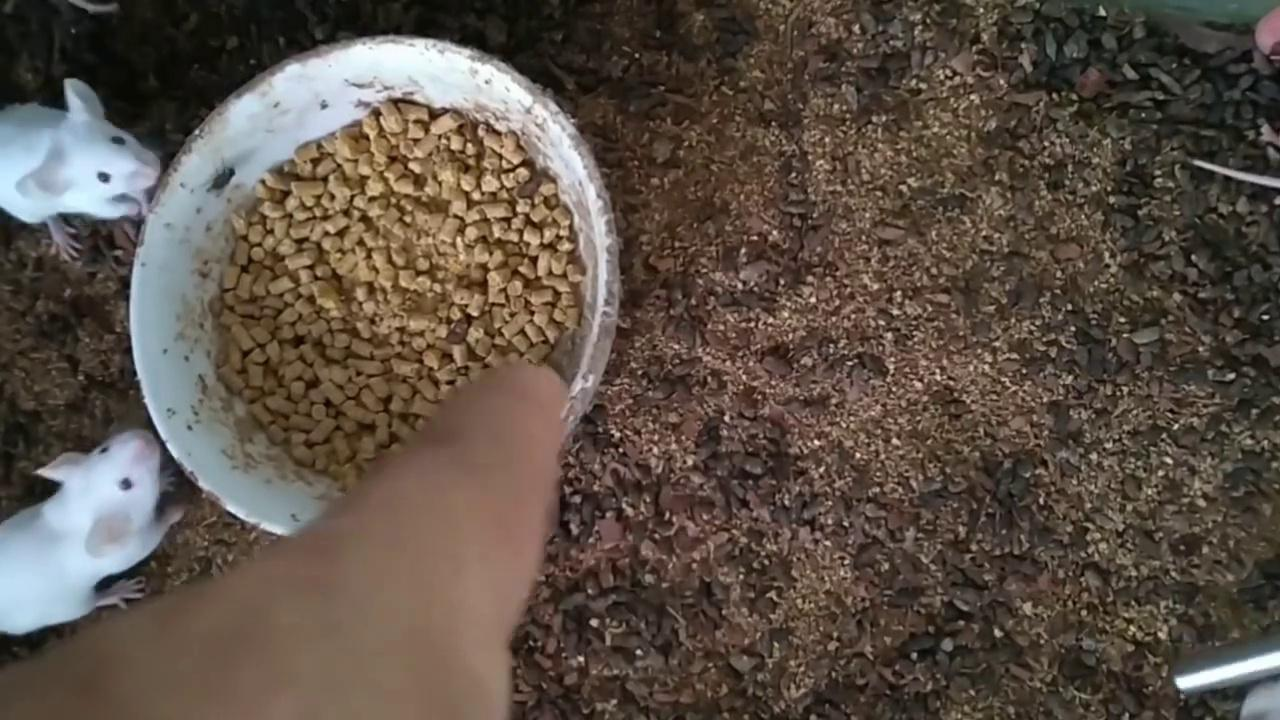rat: (0, 427, 184, 634), (0, 77, 161, 260)
